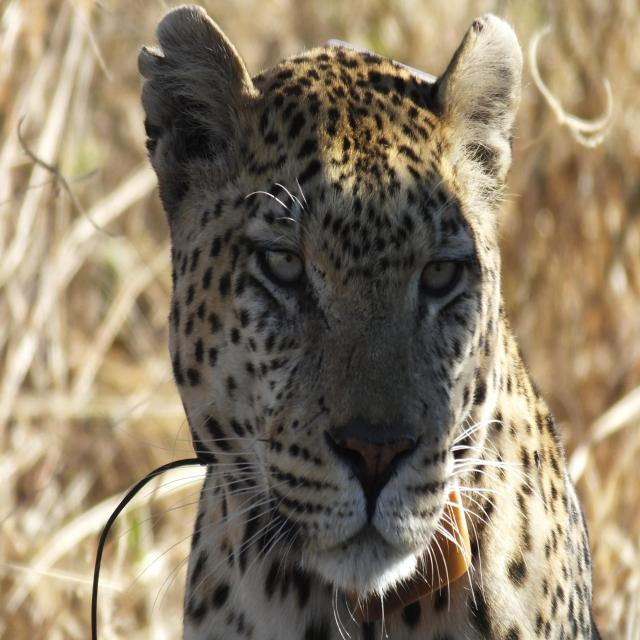Leopard: (111, 16, 599, 640)
